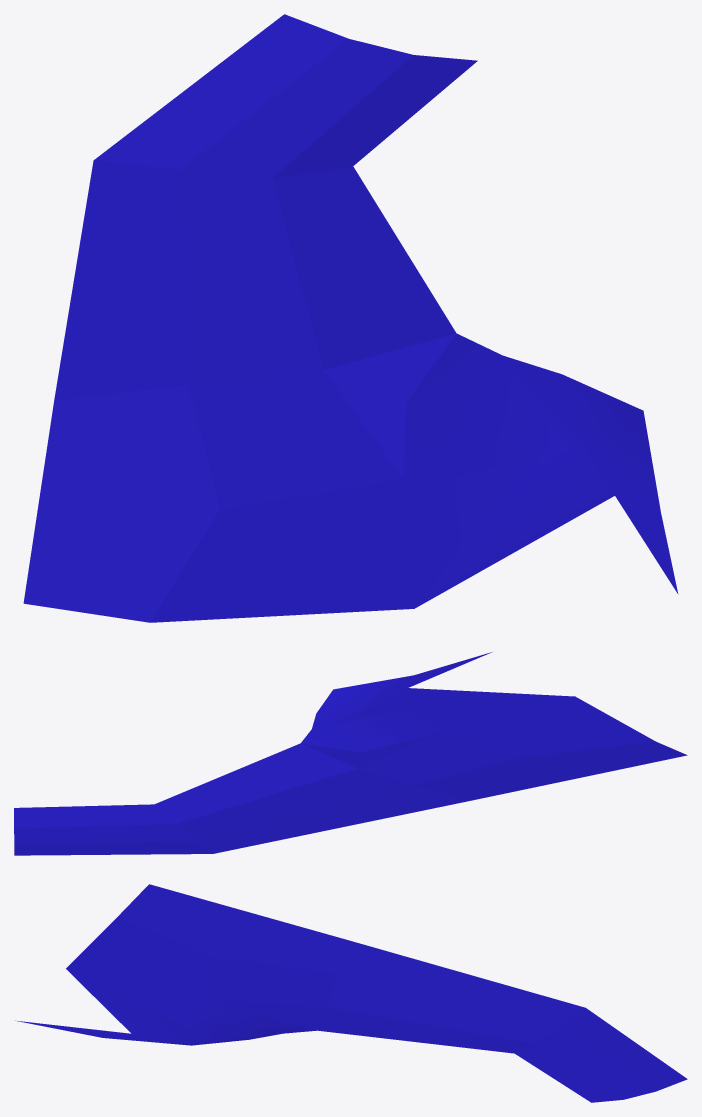
Rendered from suelo_agua_p4.fbx.
3 renders of one model, top to bottom at view 1: azimuth 30°, elevation 25°; view 2: azimuth 150°, elevation 25°; view 3: azimuth 270°, elevation 25°, orthographic. The views are drawn at different scales.
Visible parts, largest first — view 1: Cylinder005; view 2: Cylinder005; view 3: Cylinder005.
Boxes of the visible parts, x1,y1,x2,y2 form: Cylinder005: (23,14,678,622); Cylinder005: (14,652,687,855); Cylinder005: (15,884,687,1102).
Bounding box in the file's own units: 40.36 × 1 × 52.53.
